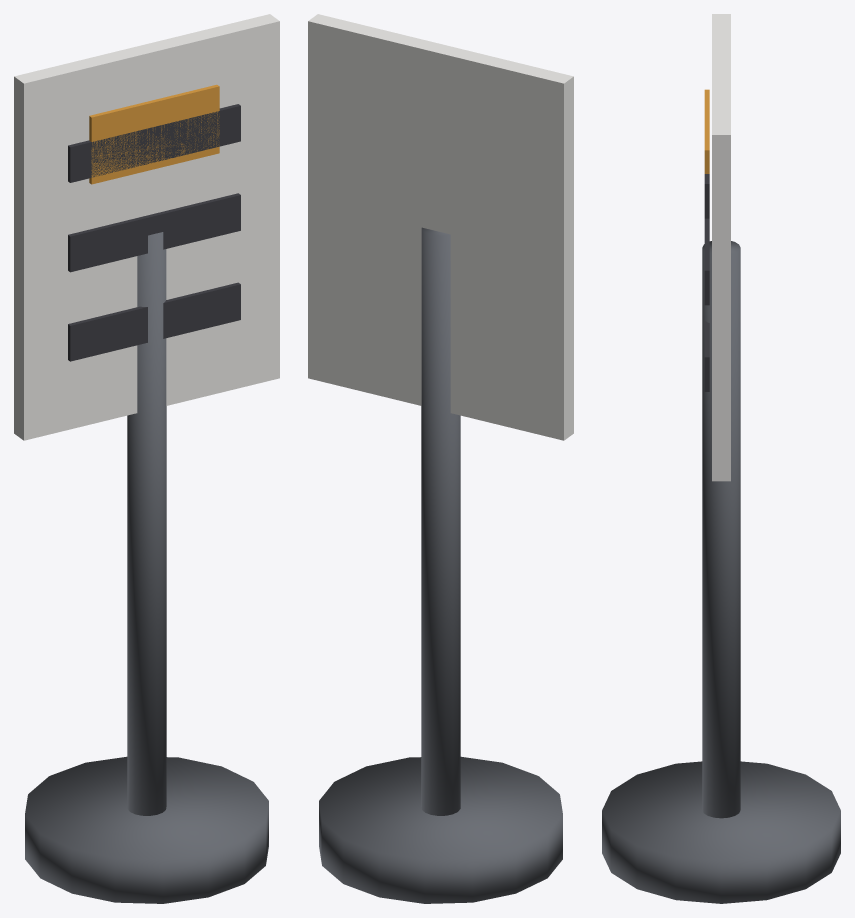
File: prop_menu_stand.glb
The picture shows the model from 3 angles, left to right: view 1: azimuth 30°, elevation 25°; view 2: azimuth 150°, elevation 25°; view 3: azimuth 270°, elevation 25°; orthographic projection. The views are drawn at different scales.
Visible parts, largest first — view 1: menu_stand; view 2: menu_stand; view 3: menu_stand.
Part boxes in pixels (box(x1,y1,x2,y2)): menu_stand: box(14, 14, 279, 903); menu_stand: box(308, 14, 573, 903); menu_stand: box(602, 14, 840, 903).
Bounding box in the file's own units: 0.6 × 1.8 × 0.5.
